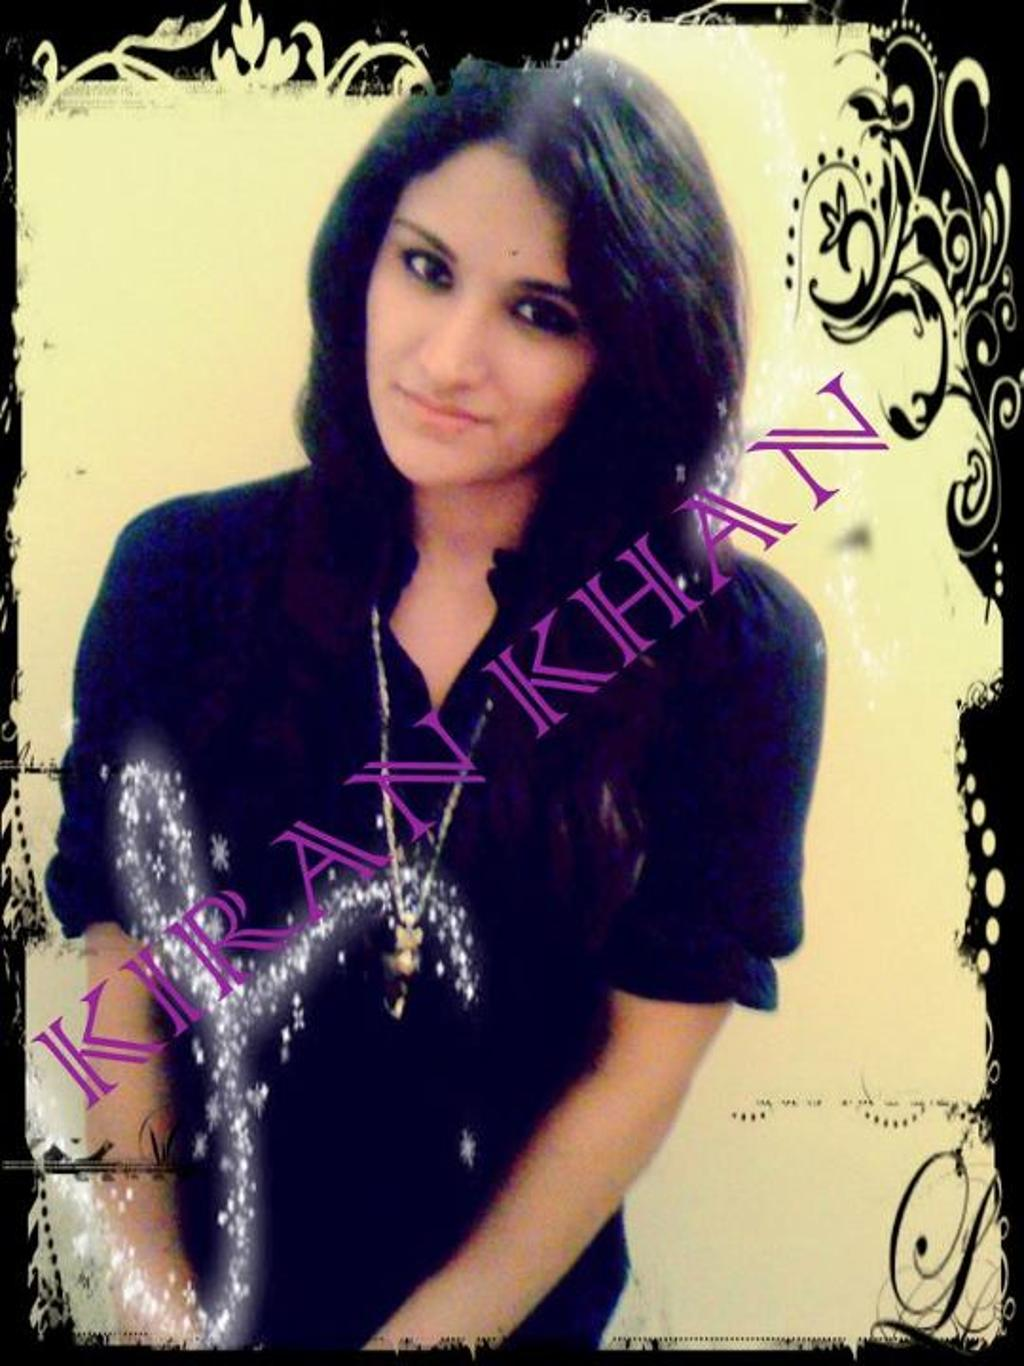face: (365, 187, 602, 480)
